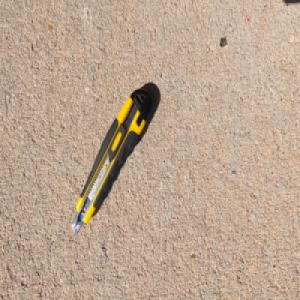Cutter: (70, 86, 153, 236)
